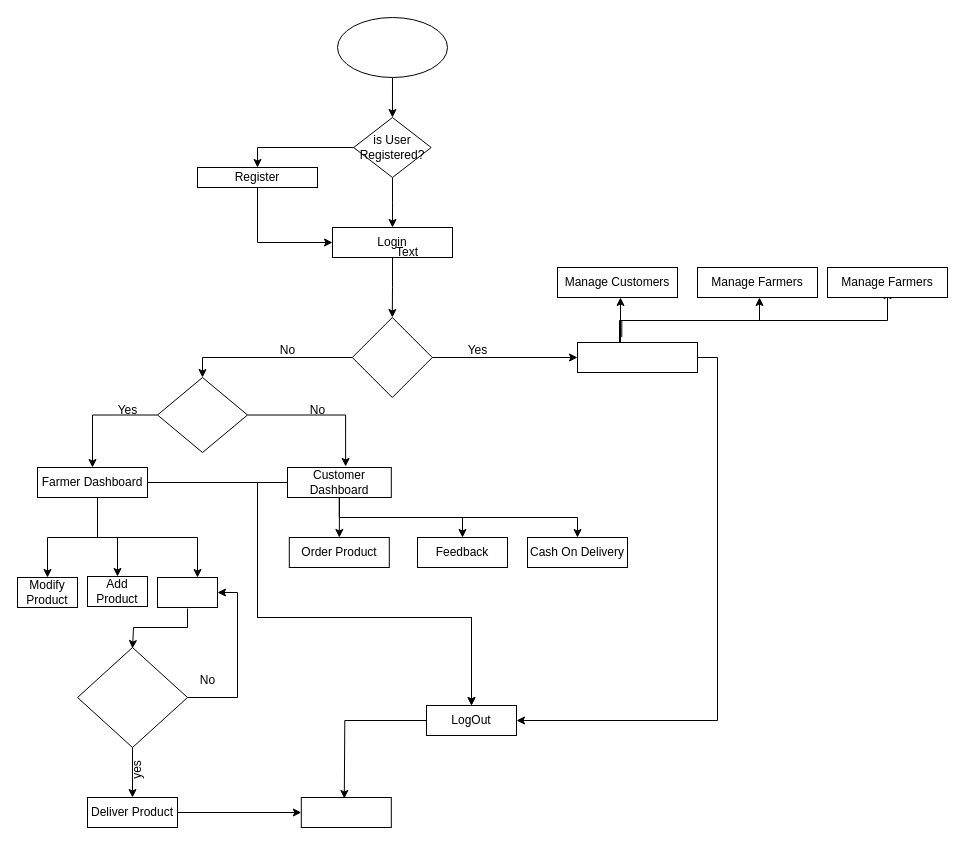
The diagram is 965 pixels wide and 845 high, and some of its shapes have lost their labels. The shapes that lost their labels are listed below. From the top down, each one's centre as x and y in pixels, then its label:
At [392,47]: "start".
At [391,357]: "Is Logged User Admin?".
At [637,357]: "Admin Dashboard".
At [202,414]: "Is logged user Farmer?".
At [187,592]: "Manage order".
At [132,697]: "Is order Geniune".
At [345,812]: "END".
